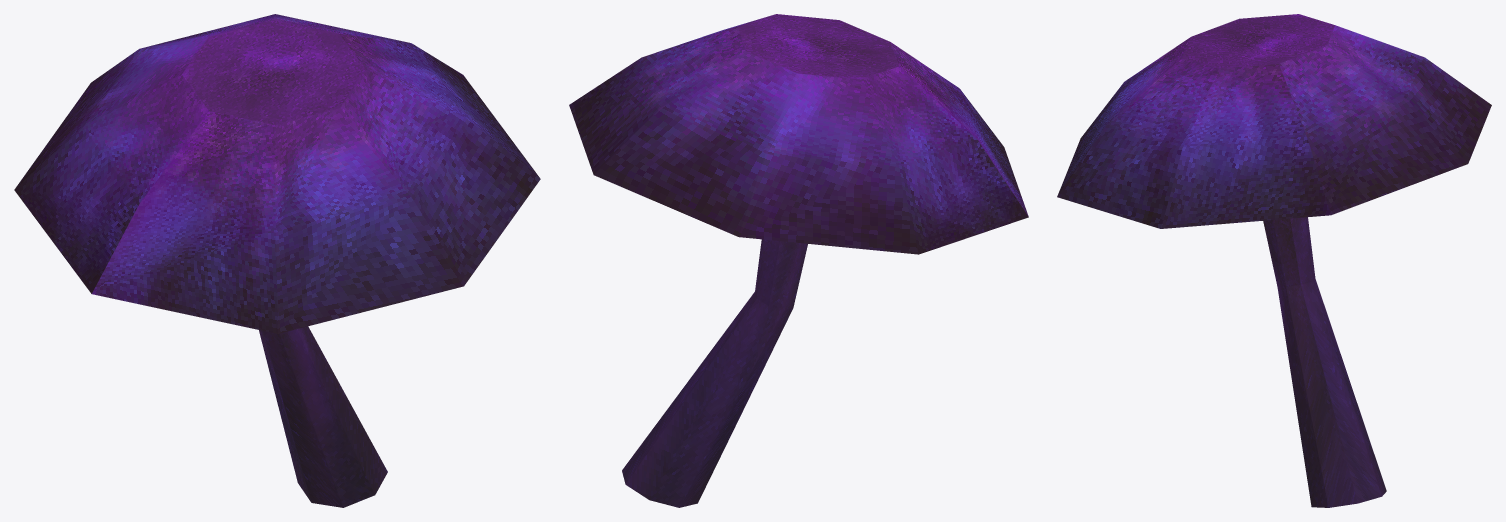
Rendered from DefaultMushroom.glb.
3 views of the same model, side by side, from view 1: azimuth 30°, elevation 25°; view 2: azimuth 150°, elevation 25°; view 3: azimuth 270°, elevation 25° (orthographic). The views are drawn at different scales.
Visible parts, largest first — view 1: Cylinder.004; view 2: Cylinder.004; view 3: Cylinder.004.
Part boxes in pixels (x1,y1,x2,y2): Cylinder.004: [14, 14, 540, 507]; Cylinder.004: [569, 14, 1028, 507]; Cylinder.004: [1057, 14, 1491, 507].
Size of the model in its own units: 9.88 by 10.79 by 9.89.
2 materials, 2 textured.
